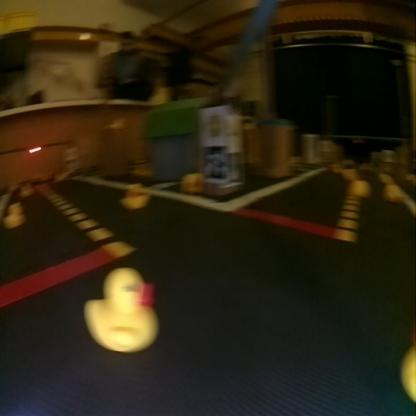Duckie: (85, 268, 159, 352), (122, 184, 148, 207), (4, 203, 24, 227), (181, 174, 201, 192), (384, 183, 401, 201), (353, 179, 369, 197), (19, 184, 32, 196)
QR code: (202, 147, 226, 181), (224, 150, 242, 185)
Signal sign: (202, 107, 224, 142)
